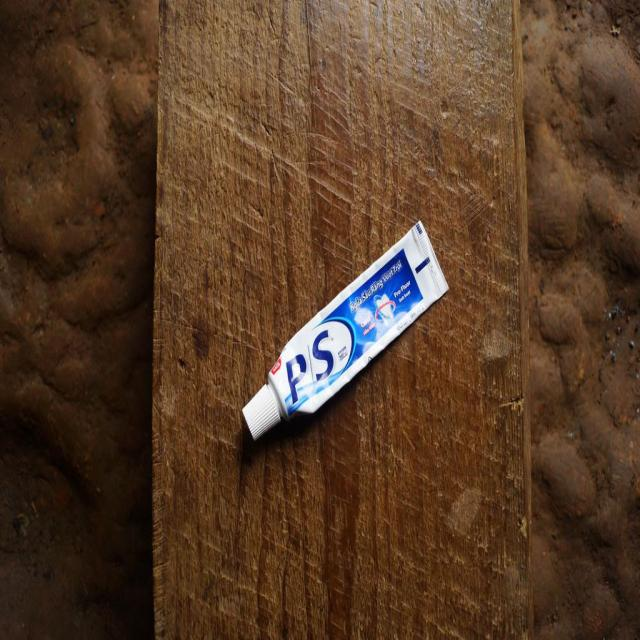Toothpaste: (237, 220, 453, 446)
